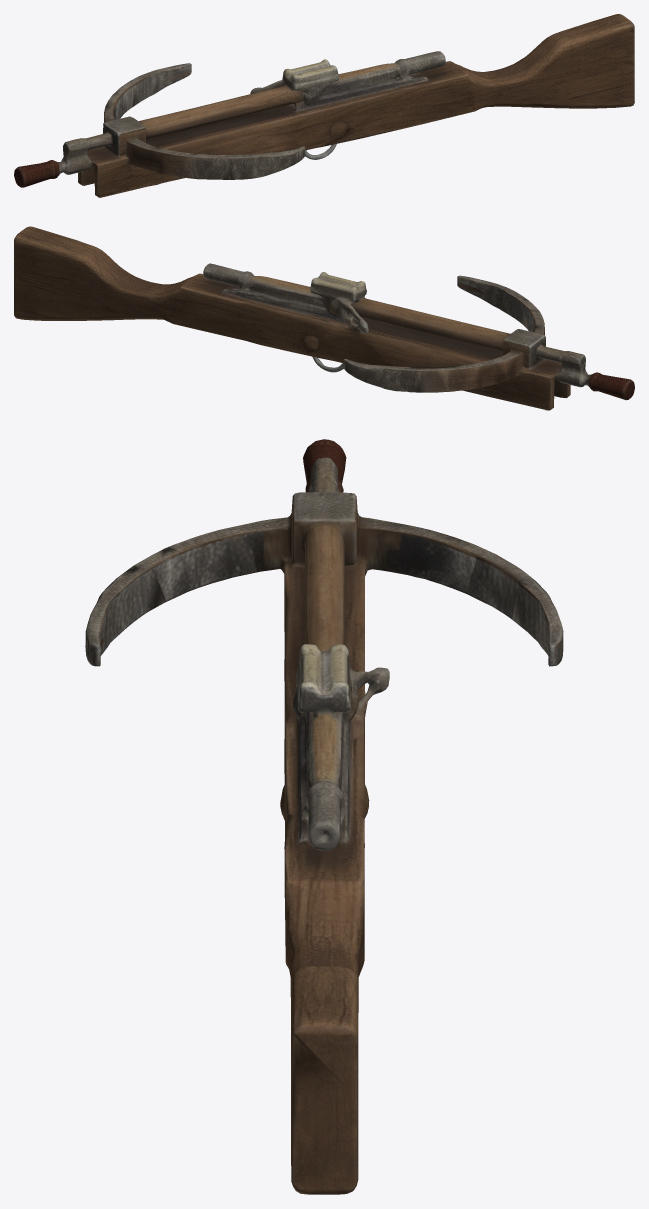
The model's file is crossbow.glb.
3 renders of one model, top to bottom at view 1: azimuth 30°, elevation 25°; view 2: azimuth 150°, elevation 25°; view 3: azimuth 270°, elevation 25°, orthographic. The views are drawn at different scales.
Bounding box in the file's own units: 1.9 × 0.3328 × 0.644.
1 material, 1 textured.
